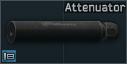FN Attenuator 5.7x28 sound suppressor: (0, 0, 127, 64)
